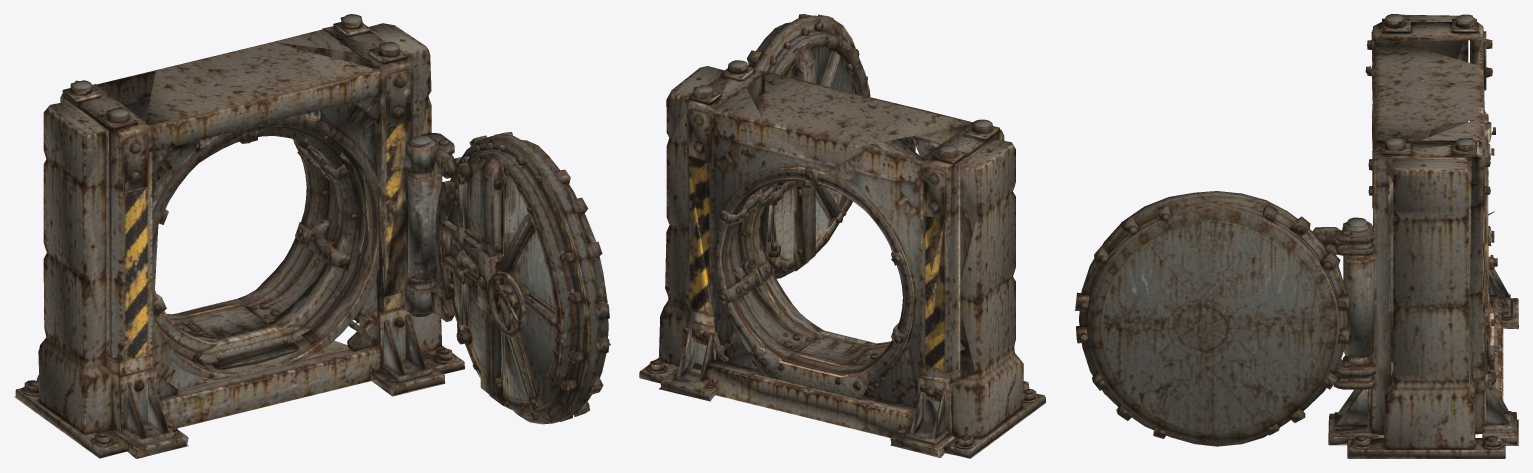
The model's file is reactor-blast-door.glb.
3 views of the same model, side by side, from view 1: azimuth 30°, elevation 25°; view 2: azimuth 150°, elevation 25°; view 3: azimuth 270°, elevation 25° (orthographic). The views are drawn at different scales.
Visible parts, largest first — view 1: reactor-blast-door; view 2: reactor-blast-door; view 3: reactor-blast-door.
Part boxes in pixels (left/top/right/bottom): reactor-blast-door: left=14, top=14, right=610, bottom=458; reactor-blast-door: left=639, top=14, right=1046, bottom=458; reactor-blast-door: left=1075, top=14, right=1518, bottom=458.
Bounding box in the file's own units: 4.95 × 4 × 5.45.
Materials: 1 (1 with a texture image).
